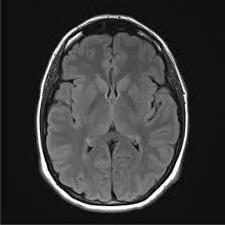Normal_Brain: (28, 13, 225, 225)
